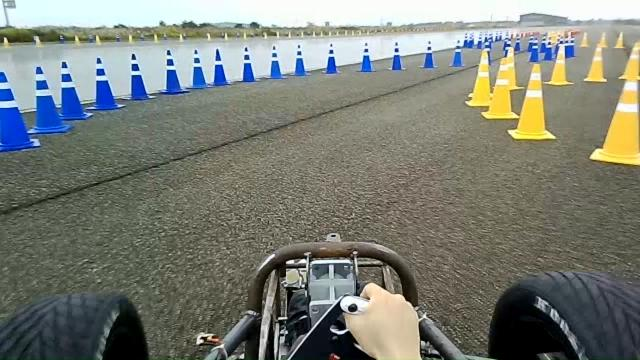blue cone: (0, 71, 41, 151), (27, 66, 72, 134), (85, 56, 126, 110), (57, 61, 93, 120), (121, 53, 155, 100), (158, 49, 190, 95), (185, 48, 209, 88), (208, 48, 232, 86), (238, 46, 258, 82)
yellow cone: (589, 80, 639, 165), (507, 63, 556, 140), (483, 56, 519, 122), (465, 49, 492, 107), (35, 36, 42, 48), (3, 36, 10, 48), (74, 35, 81, 46), (95, 34, 101, 45), (153, 33, 159, 43)
